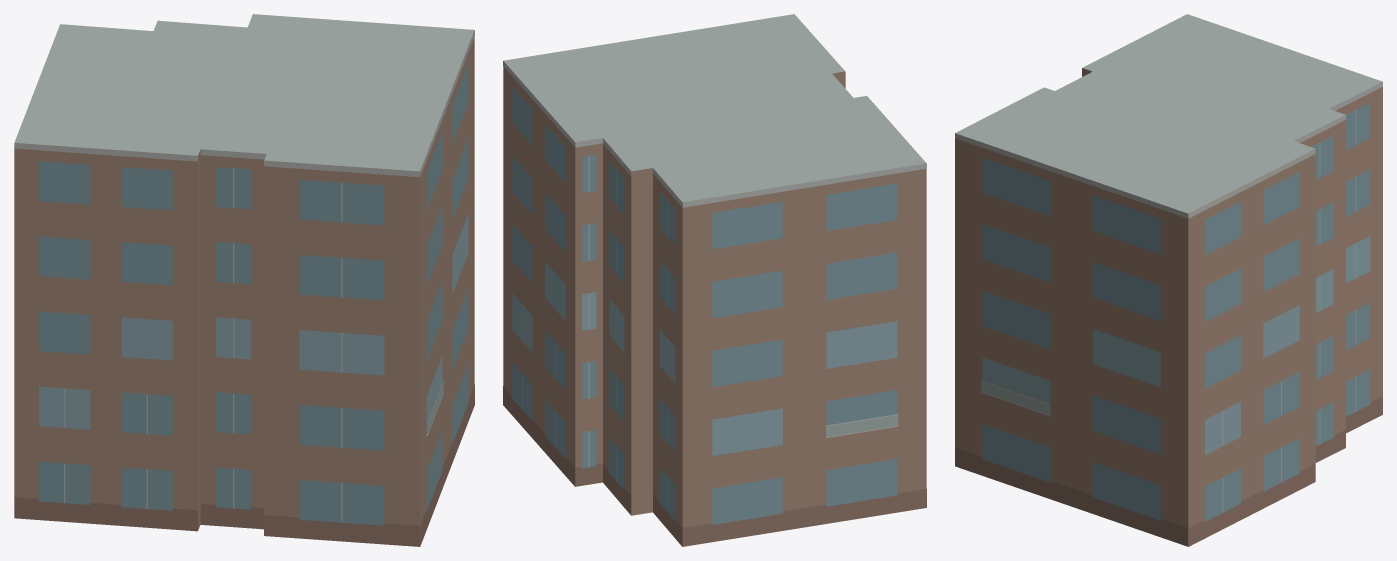
The model's file is survey-upis-33020408.glb.
3 renders of one model, left to right at view 1: azimuth 30°, elevation 25°; view 2: azimuth 150°, elevation 25°; view 3: azimuth 270°, elevation 25°, orthographic. The views are drawn at different scales.
Parts seen in each view (by area): view 1: survey-upis-33020408.tmp; view 2: survey-upis-33020408.tmp; view 3: survey-upis-33020408.tmp.
Boxes of the visible parts, x1,y1,x2,y2 form: survey-upis-33020408.tmp: (14,14,474,546); survey-upis-33020408.tmp: (503,14,926,546); survey-upis-33020408.tmp: (955,14,1382,546).
Bounding box in the file's own units: 20.31 × 15.8 × 18.39.
